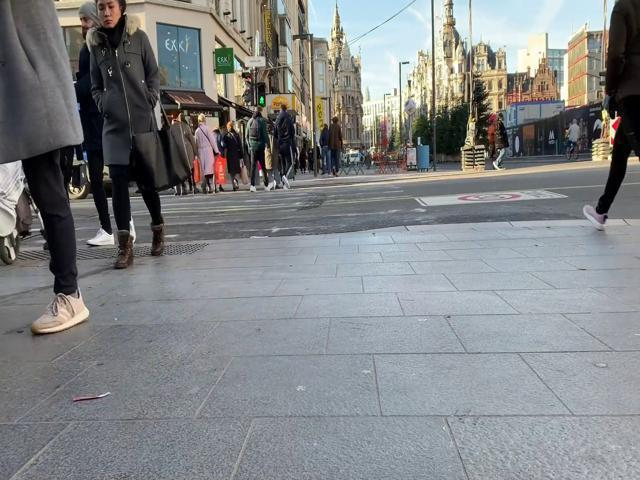shoe: (32, 289, 90, 335), (115, 232, 134, 268), (584, 205, 607, 231), (88, 229, 114, 245), (152, 224, 164, 255)
